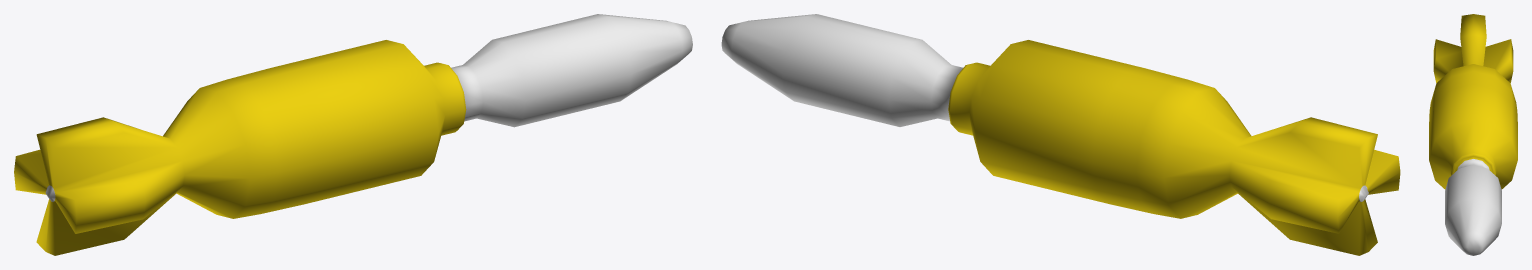
Rendered from ProjectileMesh.fbx.
3 views of the same model, side by side, from view 1: azimuth 30°, elevation 25°; view 2: azimuth 150°, elevation 25°; view 3: azimuth 270°, elevation 25° (orthographic). The views are drawn at different scales.
Visible parts, largest first — view 1: Projectile.002; view 2: Projectile.002; view 3: Projectile.002.
Boxes of the visible parts, x1,y1,x2,y2 form: Projectile.002: [14, 14, 692, 255]; Projectile.002: [721, 14, 1400, 255]; Projectile.002: [1429, 14, 1517, 255].
Bounding box in the file's own units: 43.39 × 8.25 × 8.25.
